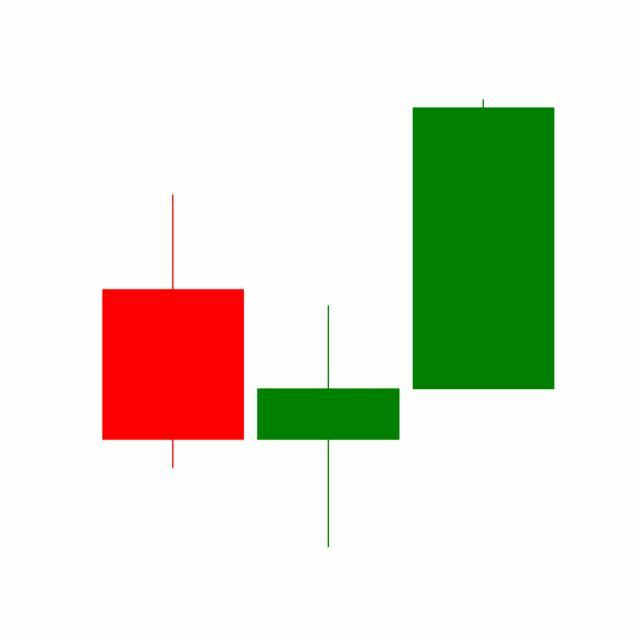Marubozu: (406, 97, 562, 394)
